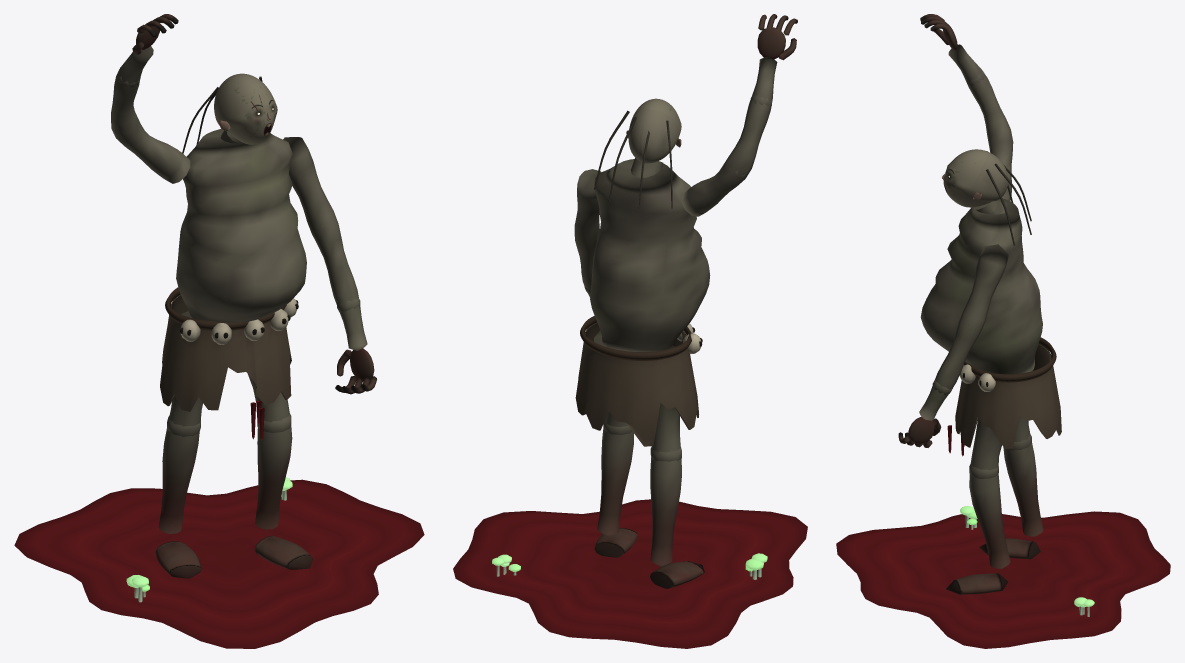
The model's file is packmaster.glb.
The picture shows the model from 3 angles, left to right: view 1: azimuth 30°, elevation 25°; view 2: azimuth 150°, elevation 25°; view 3: azimuth 270°, elevation 25°; orthographic projection. The views are drawn at different scales.
Visible parts, largest first — view 1: packmaster-body, packmaster-metal, packmaster-face; view 2: packmaster-body, packmaster-metal, packmaster-face, packmaster-glow; view 3: packmaster-body, packmaster-metal, packmaster-face.
Boxes of the visible parts, x1=… form: packmaster-body: x1=111, y1=14, x2=376, y2=602; packmaster-metal: x1=14, y1=400, x2=424, y2=648; packmaster-face: x1=214, y1=73, x2=277, y2=144; packmaster-body: x1=496, y1=14, x2=797, y2=588; packmaster-metal: x1=453, y1=499, x2=807, y2=648; packmaster-face: x1=628, y1=98, x2=681, y2=163; packmaster-glow: x1=492, y1=553, x2=767, y2=571; packmaster-body: x1=898, y1=14, x2=1089, y2=616; packmaster-metal: x1=836, y1=425, x2=1170, y2=648; packmaster-face: x1=943, y1=149, x2=1008, y2=207.
Bounding box in the file's own units: 0.7901 × 1.37 × 0.8126.
Materials: 4 (1 with a texture image).
